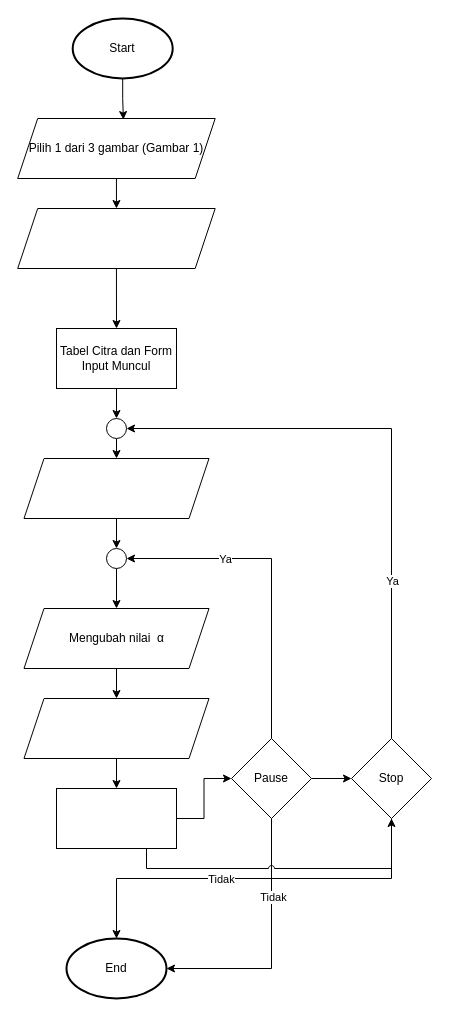
Some shapes in this 449 by 1016 pixel diagram are drawn without their labels. Here are the shapes that lost their labels. From the top down, the centre of each, then its label:
At [116,238]: "Pilih 1 dari 3 gambar (Gambar 2)".
At [116,488]: "Ubah nilai citra warna".
At [116,728]: "Tekan Tombol Play".
At [116,818]: "Proses mengubah citra graysclae menjadi citra negatif".
